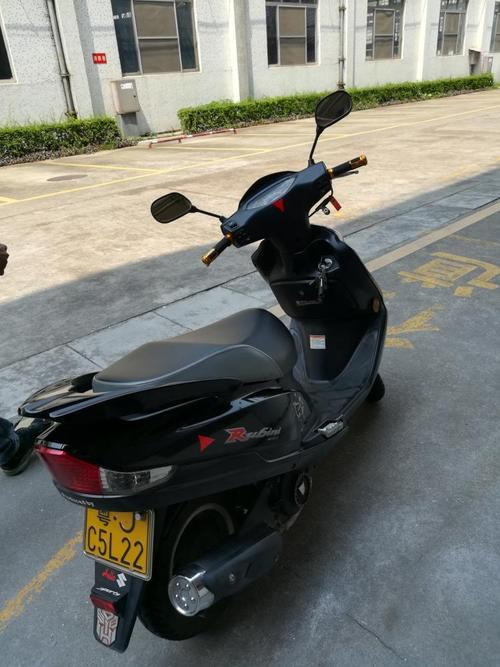motor: (42, 189, 396, 626)
